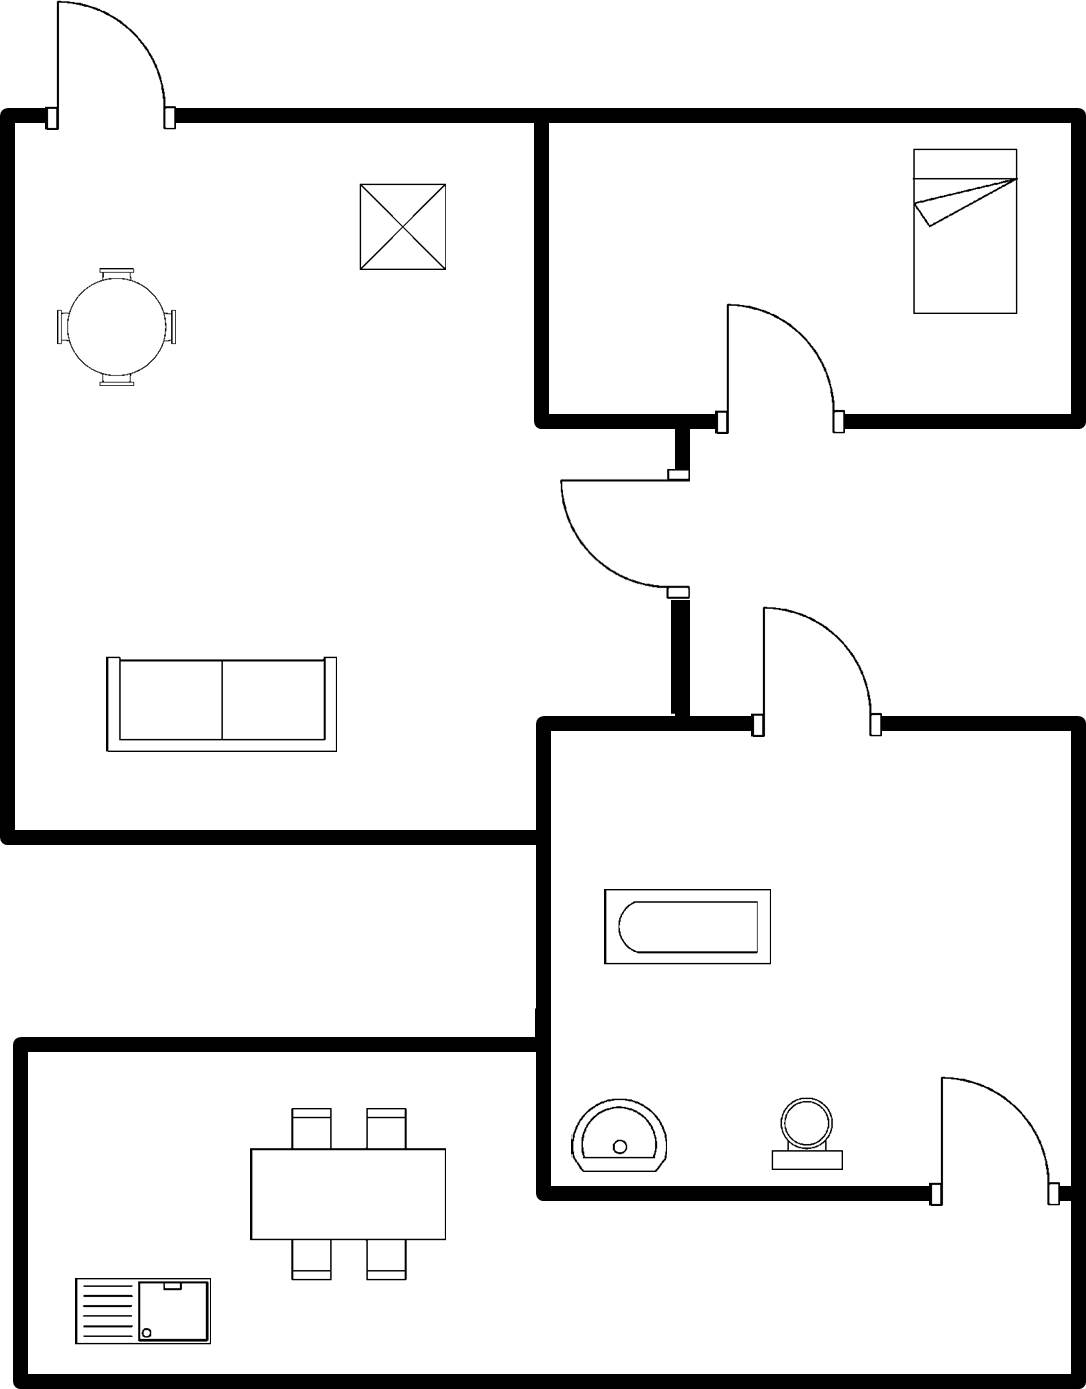bed: (902, 138, 1030, 324)
coffee_table: (346, 171, 457, 279)
dining_table: (239, 1096, 454, 1292)
large_sink: (760, 1088, 852, 1178)
large_sofa: (91, 650, 347, 767)
round_table: (43, 256, 192, 400)
sink: (60, 1269, 222, 1356)
small_sink: (562, 1085, 681, 1179)
tub: (593, 882, 783, 979)
